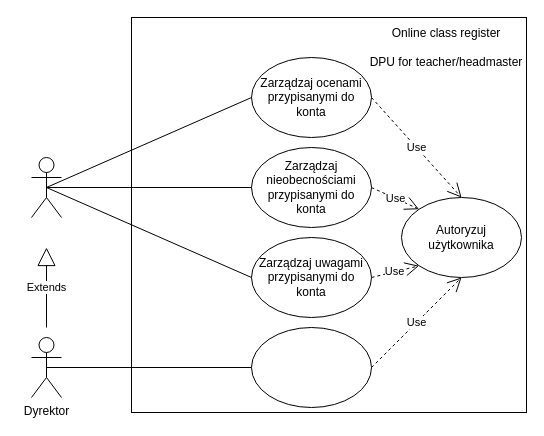
Some shapes in this 544 by 436 pixel diagram are drawn without their labels. Each missing label, with the box of its shape:
Nauczyciel: (30, 156, 62, 218)
Zarządzaj ogłoszeniami przypisanymi do konta: (250, 326, 372, 408)
